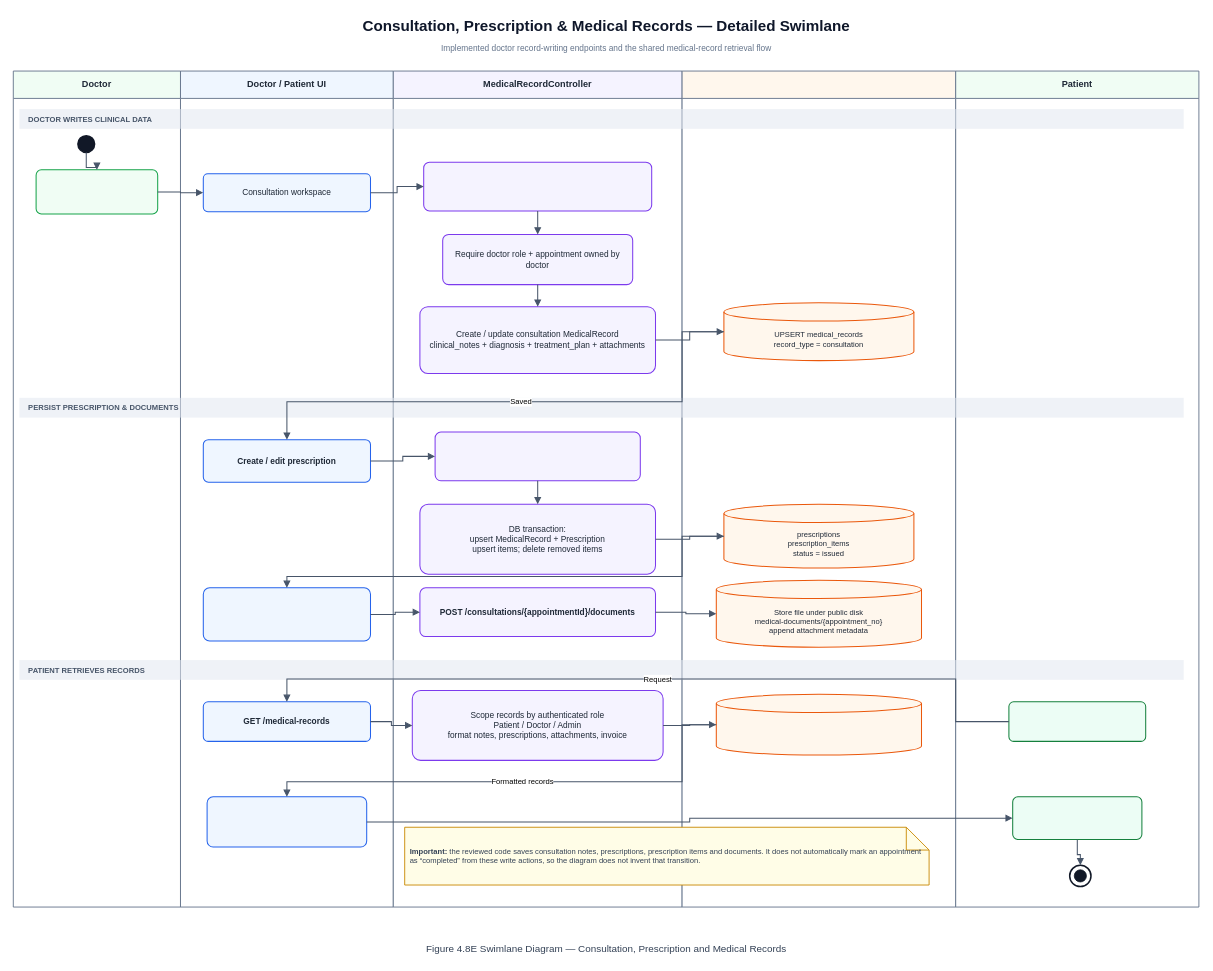
The diagram is 1213 pixels wide and 971 high, and some of its shapes have lost their labels. Here are the shapes that lost their labels. From the top down, the box of each, then its label:
(35, 169, 158, 214): Open appointment / patient record
(423, 161, 652, 211): POST /consultations/{appointmentId}/notes
(434, 431, 640, 481): POST / PUT prescriptions
(681, 70, 956, 907): MySQL + Public Storage
(202, 587, 371, 641): Upload report / PDF / image / invoice metadata
(715, 693, 922, 755): Read records + prescriptions + payment / invoice data
(1008, 701, 1146, 742): Open Medical Records
(206, 796, 367, 847): Display / print prescription records and history
(1012, 796, 1142, 840): View / print
